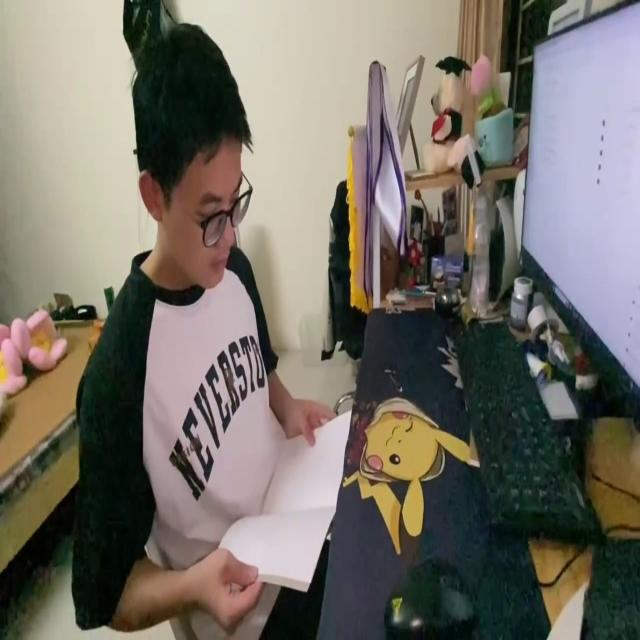book: (218, 406, 352, 596)
laptop: (517, 6, 640, 439)
student: (66, 19, 327, 640)
